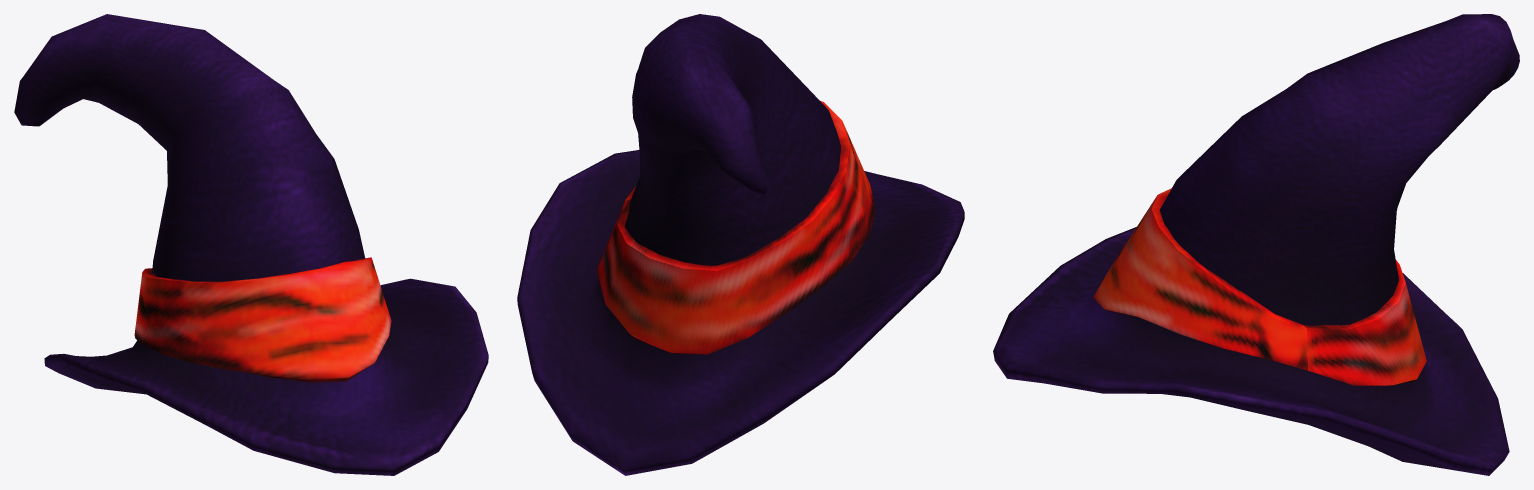
Rendered from Hat.fbx.
The picture shows the model from 3 angles, left to right: view 1: azimuth 30°, elevation 25°; view 2: azimuth 150°, elevation 25°; view 3: azimuth 270°, elevation 25°; orthographic projection. The views are drawn at different scales.
Parts seen in each view (by area): view 1: Slender_Hat_Acc; view 2: Slender_Hat_Acc; view 3: Slender_Hat_Acc.
Part boxes in pixels (x1,y1,x2,y2): Slender_Hat_Acc: [14, 14, 488, 475]; Slender_Hat_Acc: [517, 14, 964, 475]; Slender_Hat_Acc: [993, 14, 1519, 475].
Size of the model in its own units: 1.19 by 1.24 by 1.43.
1 material, 1 textured.
